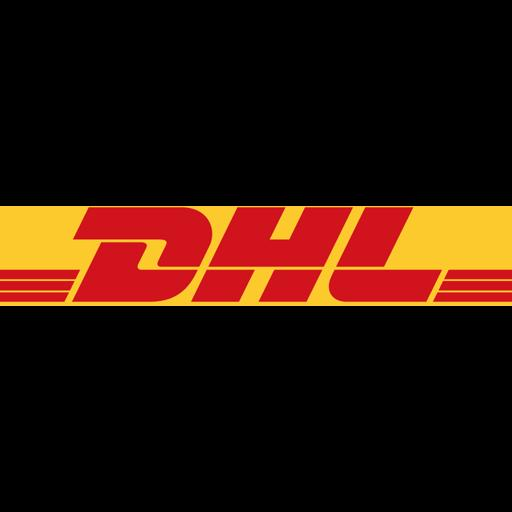DHL: (0, 206, 512, 306)
